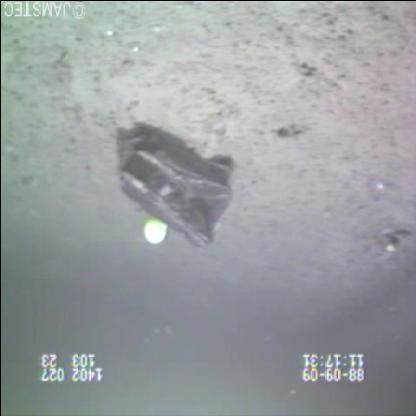Rác: (109, 126, 239, 252)
